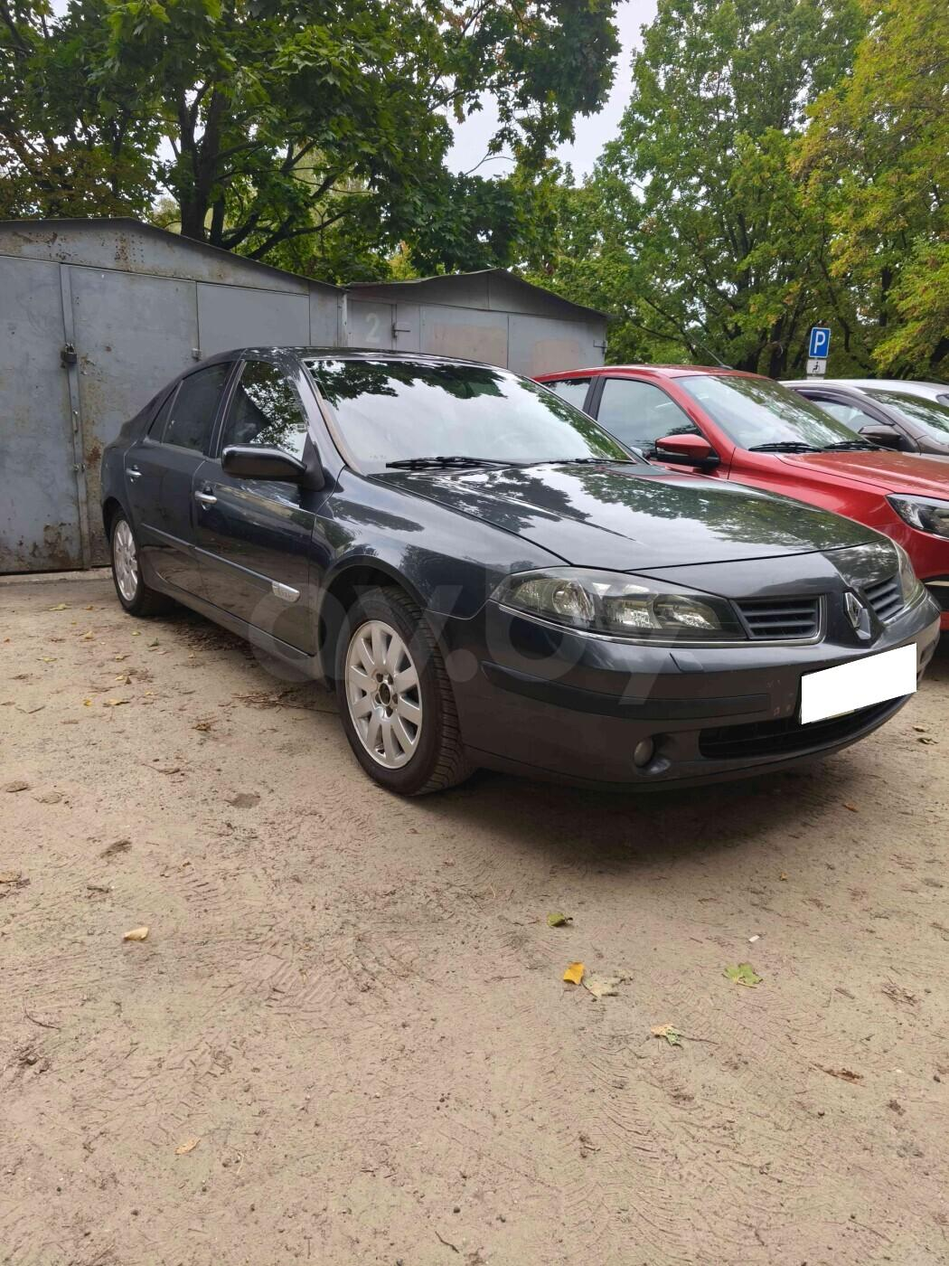Laguna_2005-2007: (99, 327, 949, 799)
